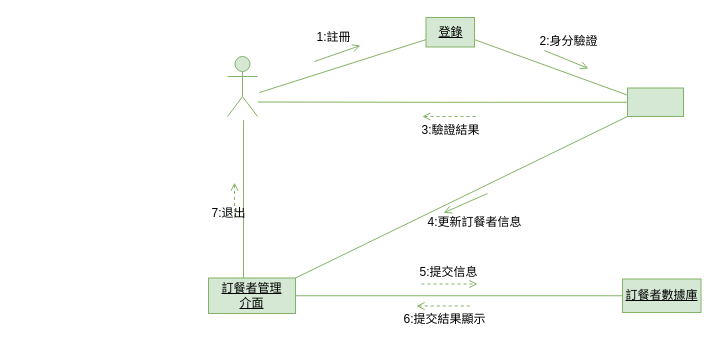
Image size: 719x350. Some labels were removed from this diagram. The shapes that lost their labels are listed below. From the top down, each one's centre as x and y in pixels, then its label:
At (x=242, y=86): ":系統管理員".
At (x=655, y=101): "管理介面".
